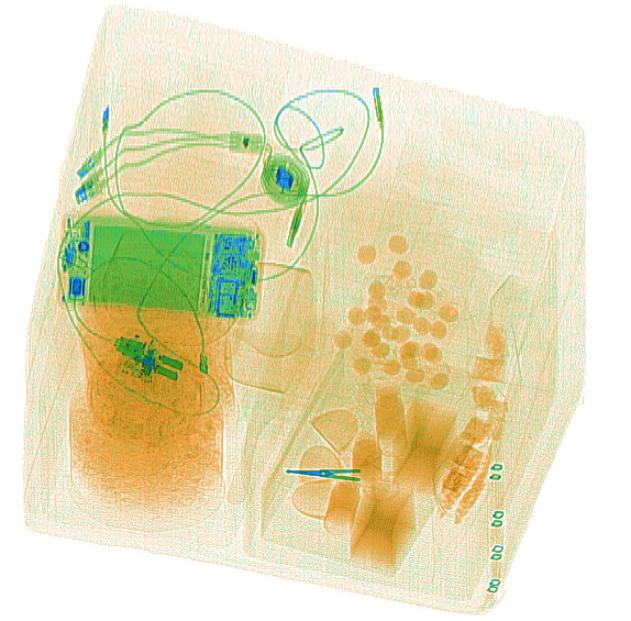scissors: (285, 464, 390, 493)
